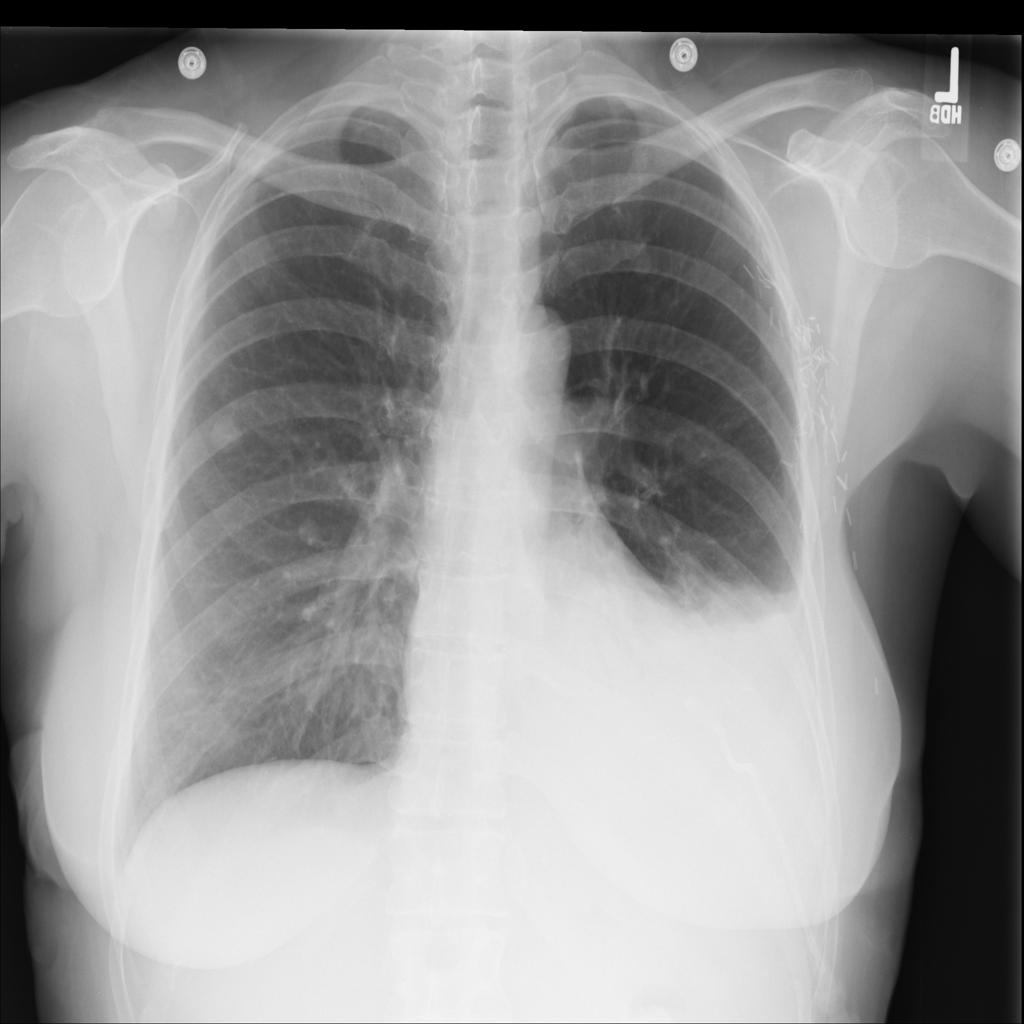nodule: (195, 394, 258, 470), (288, 505, 336, 557)
